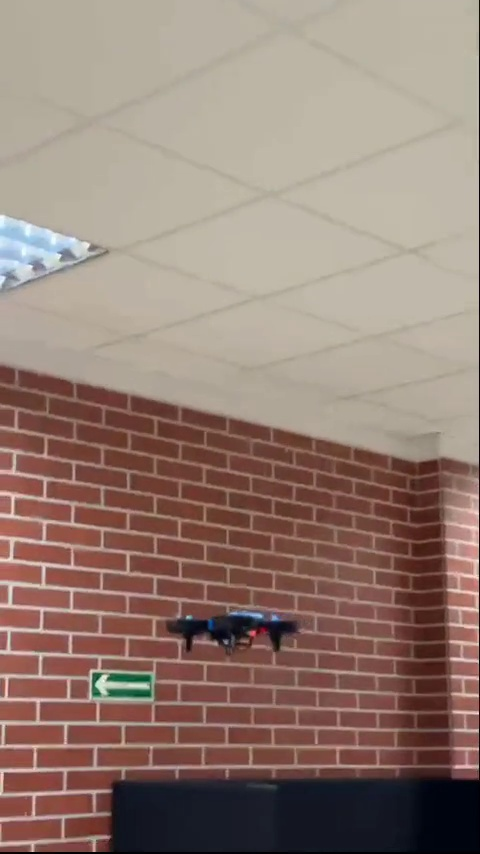drone: (166, 607, 301, 659)
